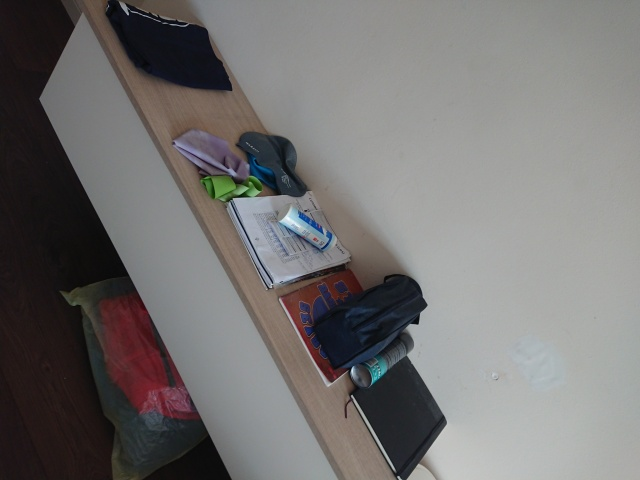Solana Pag Fine Sea Salt 250g: (275, 202, 338, 255)
